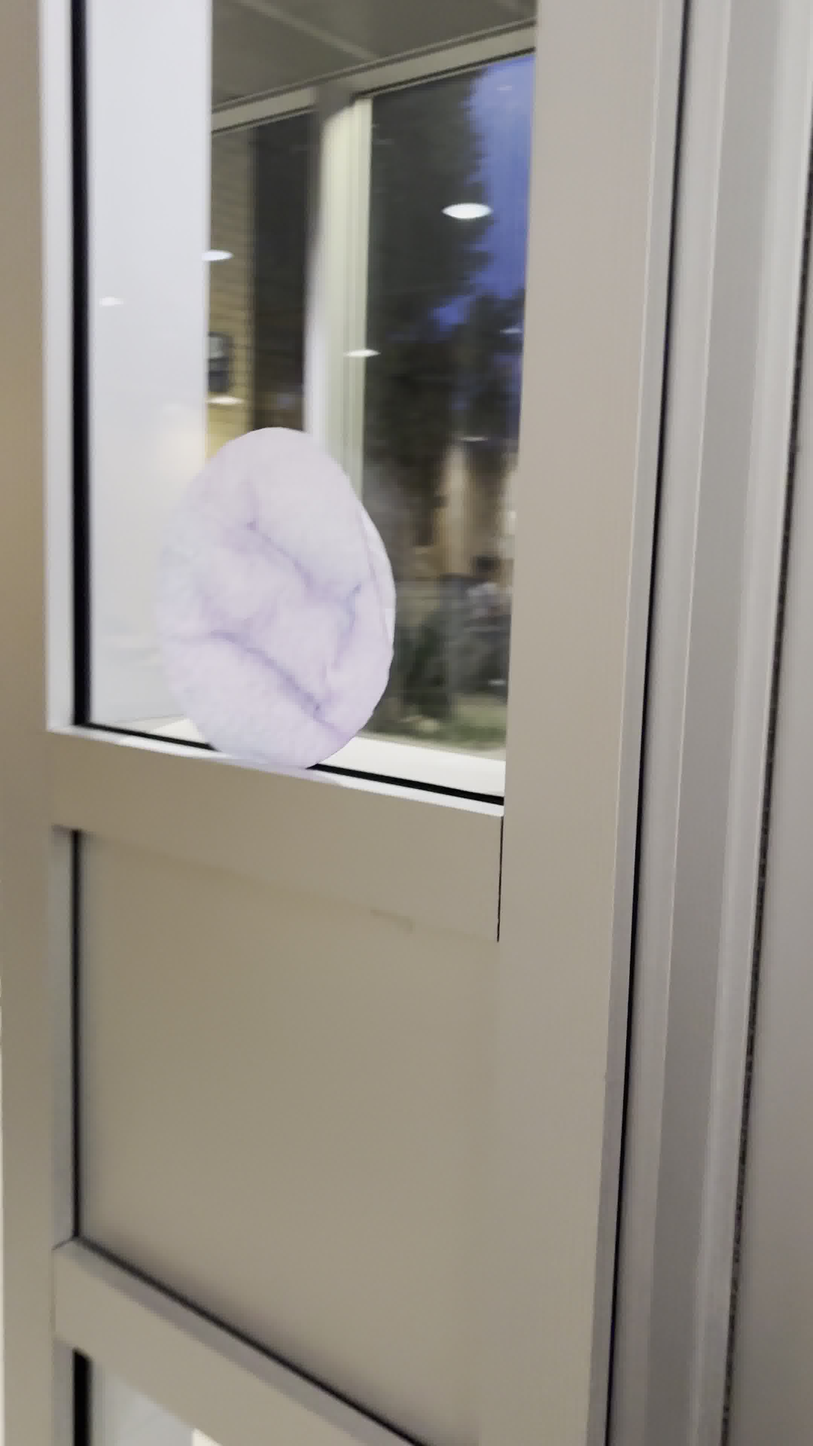Target: (156, 427, 401, 781)
